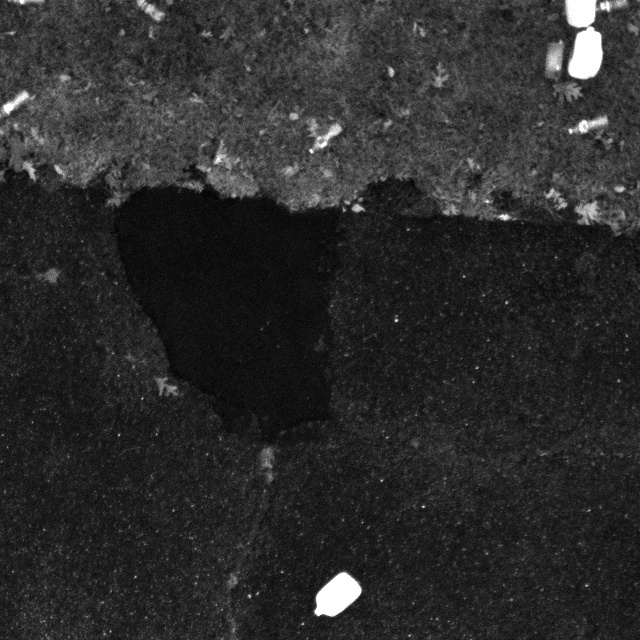bottle: (560, 107, 617, 142)
can: (308, 566, 368, 626), (560, 26, 608, 80)
container: (536, 35, 568, 87)
